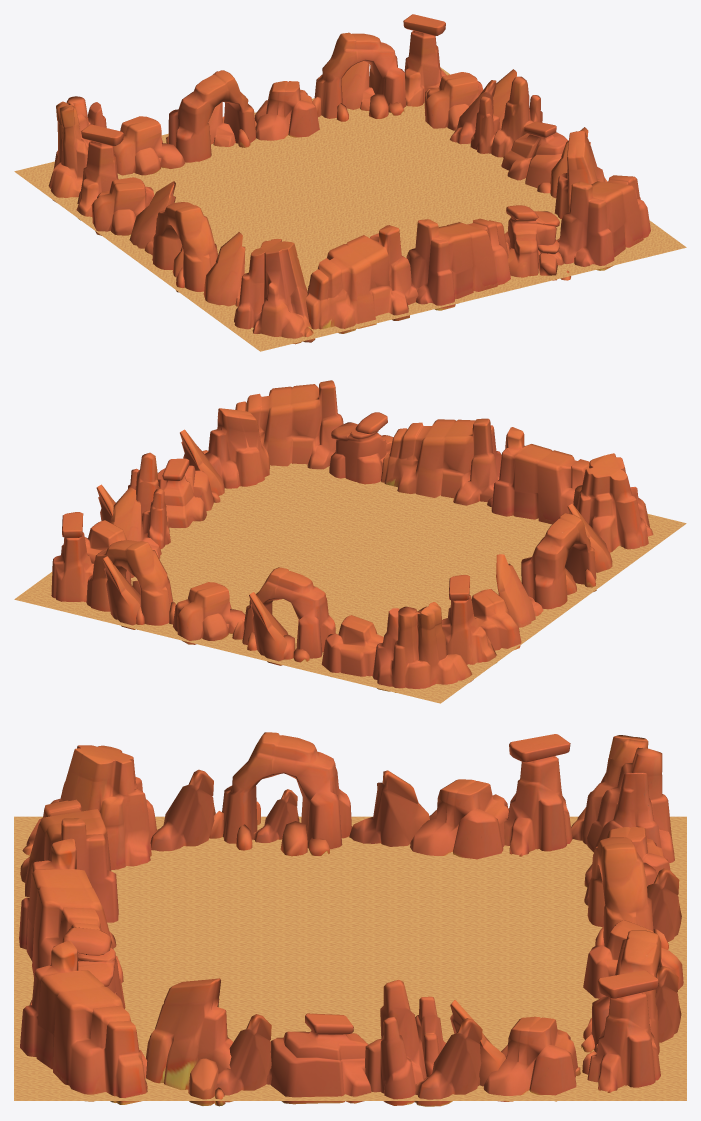
File: rocks-limits.glb
3 renders of one model, top to bottom at view 1: azimuth 30°, elevation 25°; view 2: azimuth 150°, elevation 25°; view 3: azimuth 270°, elevation 25°, orthographic. The views are drawn at different scales.
Parts seen in each view (by area): view 1: Floor, rock-limits, rock-limits.018, rock-limits.019, rock-limits.004, rock-limits.014, rock-limits.017, rock-limits.006, rock-limits.010, rock-limits.005, rock-limits.001, rock-limits.003 (+14 smaller); view 2: Floor, rock-limits.018, rock-limits.019, rock-limits, rock-limits.005, rock-limits.004, rock-limits.006, rock-limits.017, rock-limits.014, rock-limits.007, rock-limits.010, rock-limits.012 (+13 smaller); view 3: Floor, rock-limits.019, rock-limits.006, rock-limits.007, rock-limits.004, rock-limits.005, rock-limits.003, rock-limits.018, rock-limits.011, rock-limits.001, rock-limits.002, rock-limits.008 (+15 smaller).
Boxes of the visible parts, x1=… form: Floor: x1=14, y1=67, x2=686, y2=351; rock-limits: x1=306, y1=225, x2=418, y2=333; rock-limits.018: x1=406, y1=218, x2=510, y2=310; rock-limits.019: x1=557, y1=175, x2=650, y2=270; rock-limits.004: x1=234, y1=239, x2=315, y2=344; rock-limits.014: x1=312, y1=32, x2=405, y2=121; rock-limits.017: x1=166, y1=70, x2=256, y2=162; rock-limits.006: x1=152, y1=202, x2=217, y2=292; rock-limits.010: x1=504, y1=205, x2=571, y2=280; rock-limits.005: x1=48, y1=96, x2=114, y2=202; rock-limits.001: x1=470, y1=76, x2=542, y2=157; rock-limits.003: x1=501, y1=121, x2=568, y2=193; Floor: x1=14, y1=463, x2=686, y2=703; rock-limits.018: x1=381, y1=418, x2=501, y2=505; rock-limits.019: x1=235, y1=380, x2=343, y2=469; rock-limits: x1=487, y1=427, x2=589, y2=524; rock-limits.005: x1=372, y1=602, x2=473, y2=692; rock-limits.004: x1=573, y1=453, x2=653, y2=552; rock-limits.006: x1=521, y1=513, x2=596, y2=609; rock-limits.017: x1=232, y1=567, x2=335, y2=662; rock-limits.014: x1=86, y1=540, x2=175, y2=629; rock-limits.007: x1=202, y1=408, x2=269, y2=488; rock-limits.010: x1=329, y1=412, x2=393, y2=484; rock-limits.012: x1=173, y1=582, x2=245, y2=644; Floor: x1=14, y1=816, x2=686, y2=1100; rock-limits.019: x1=20, y1=941, x2=147, y2=1104; rock-limits.006: x1=209, y1=732, x2=351, y2=856; rock-limits.007: x1=146, y1=978, x2=233, y2=1106; rock-limits.004: x1=22, y1=745, x2=156, y2=869; rock-limits.005: x1=571, y1=735, x2=674, y2=862; rock-limits.003: x1=266, y1=1013, x2=371, y2=1104; rock-limits.018: x1=19, y1=838, x2=123, y2=982; rock-limits.011: x1=575, y1=970, x2=660, y2=1092; rock-limits.001: x1=365, y1=979, x2=445, y2=1105; rock-limits.002: x1=504, y1=734, x2=572, y2=856; rock-limits.008: x1=410, y1=779, x2=508, y2=859.
Size of what is drawn, in the model's own units: 255 by 45.37 by 255.
Materials: 2 (2 with a texture image).
